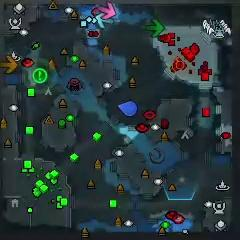Other: (33, 68, 47, 84)
p1: (117, 101, 138, 117)
x1: (97, 1, 115, 20)
x3: (95, 12, 115, 29)
x4: (145, 19, 164, 36)
x5: (0, 55, 18, 74)
